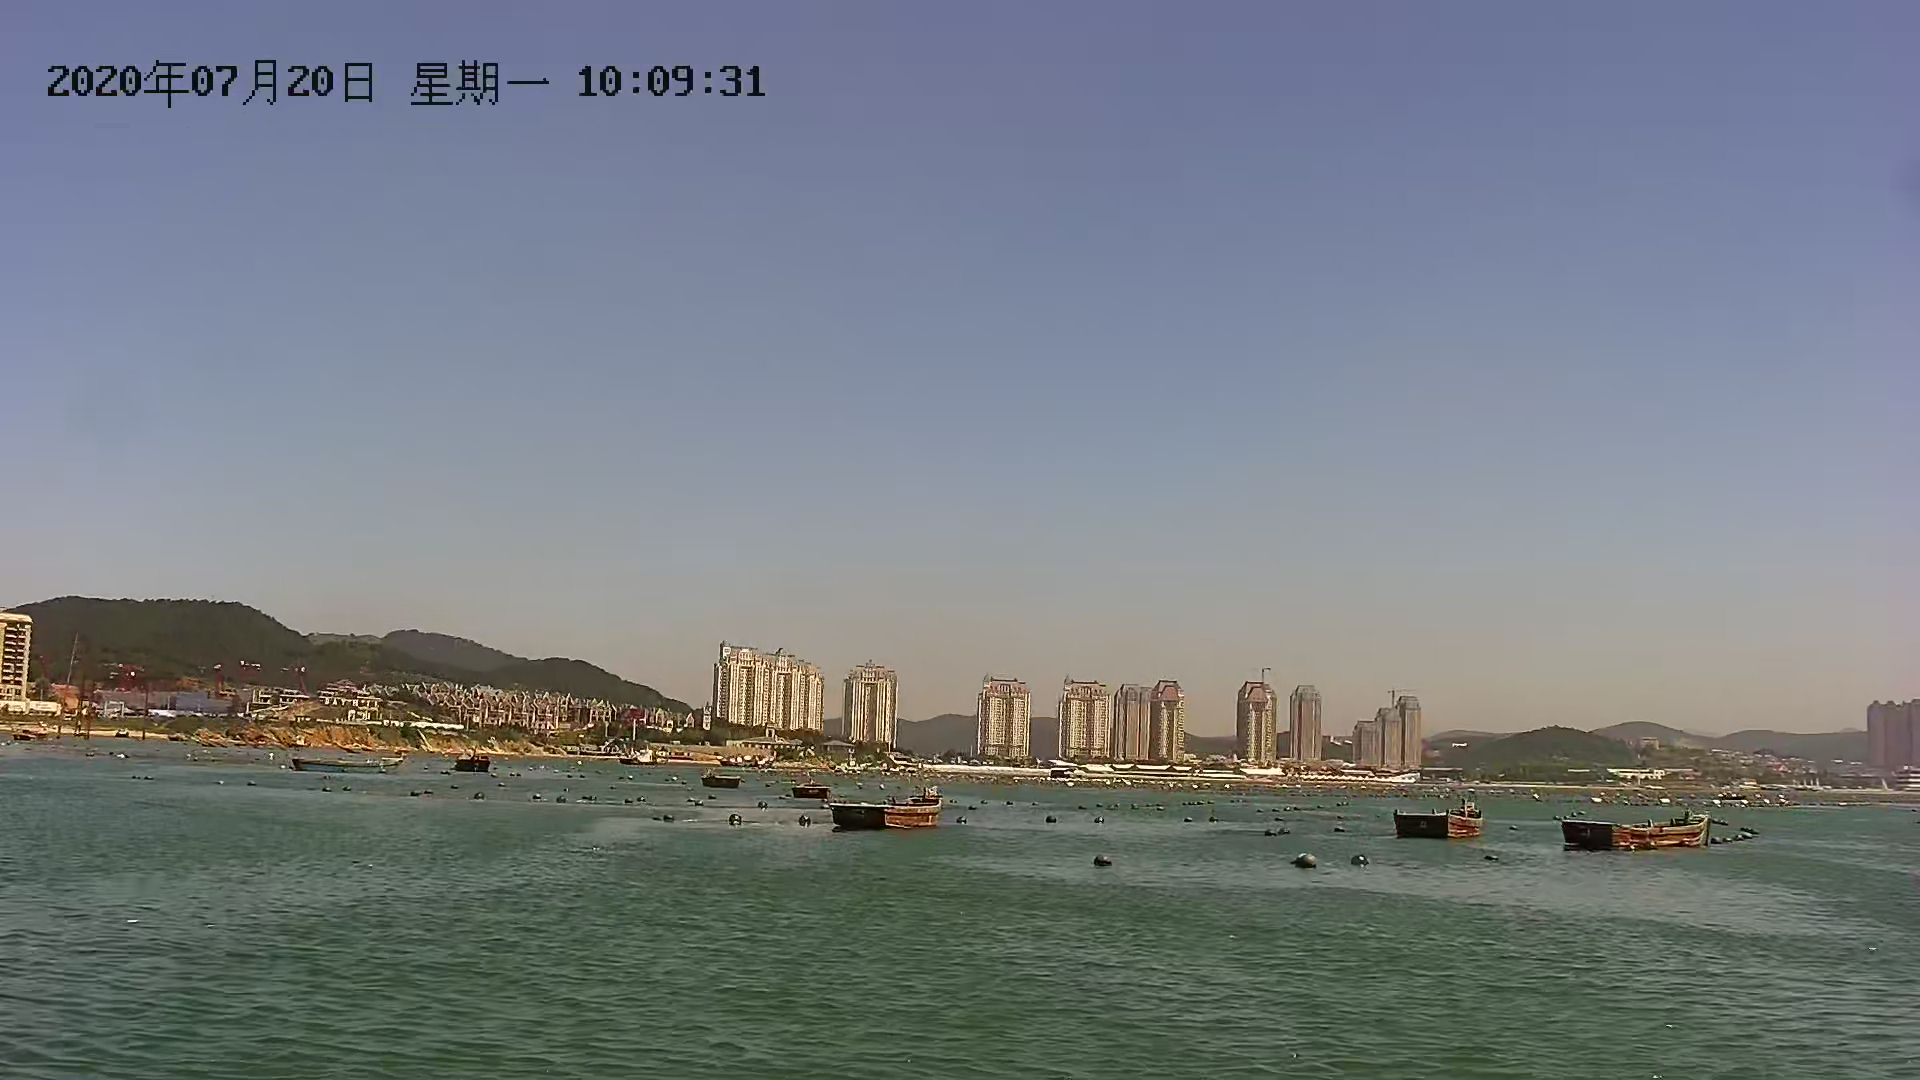ball: (1088, 849, 1114, 873), (1294, 851, 1319, 873), (1342, 853, 1374, 870)
boat: (1561, 804, 1716, 855), (824, 791, 945, 837), (1396, 796, 1487, 845)
